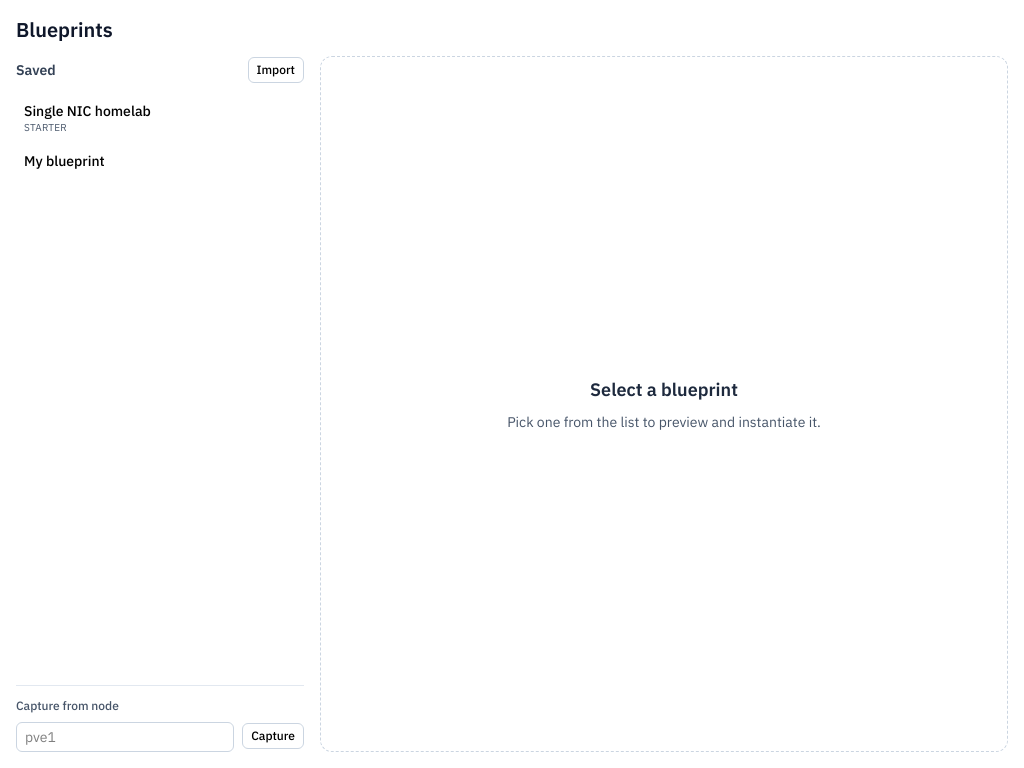
Test: BlueprintsPage read-only gating › enables the same affordances for a full-capability session
Expected: the button "Import" is enabled, left=248, top=57, right=304, bottom=83
Expected: the button "Capture" is enabled, left=242, top=723, right=304, bottom=749
Click the button "My blueprint" at (64, 161), box left=16, top=145, right=304, bottom=177
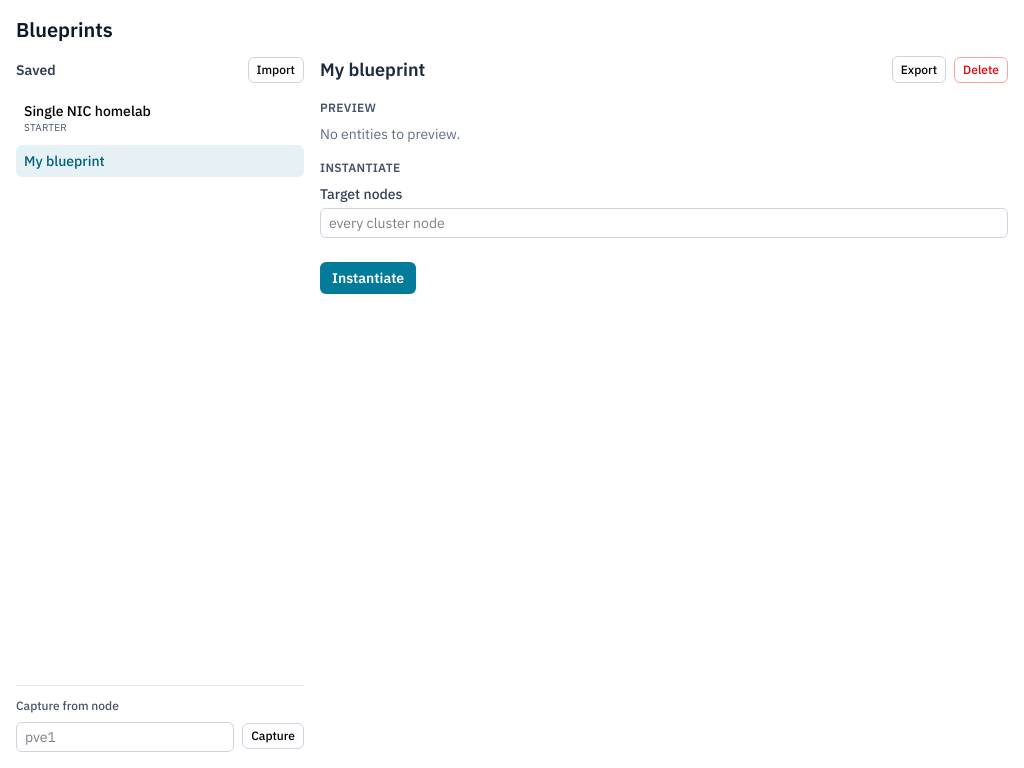
Expected: the button "Delete" is enabled, left=954, top=57, right=1008, bottom=83
Expected: the button "Instantiate" is enabled, left=320, top=262, right=416, bottom=294
